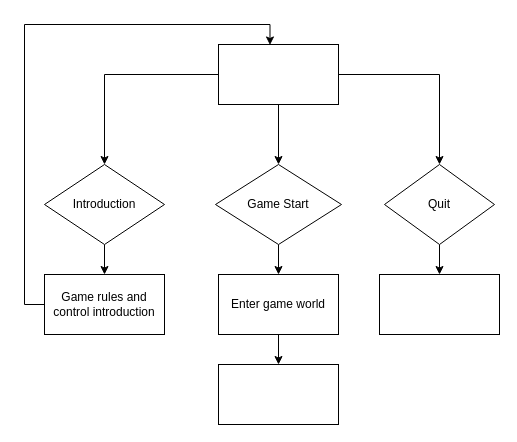
This 517x442 diagram has some shape labels left out. Each missing label, with the centre of its shape:
"Exit the game" goes at point (439, 304).
"Game Main Frame" goes at point (278, 74).
"Return game main frame" goes at point (278, 394).
